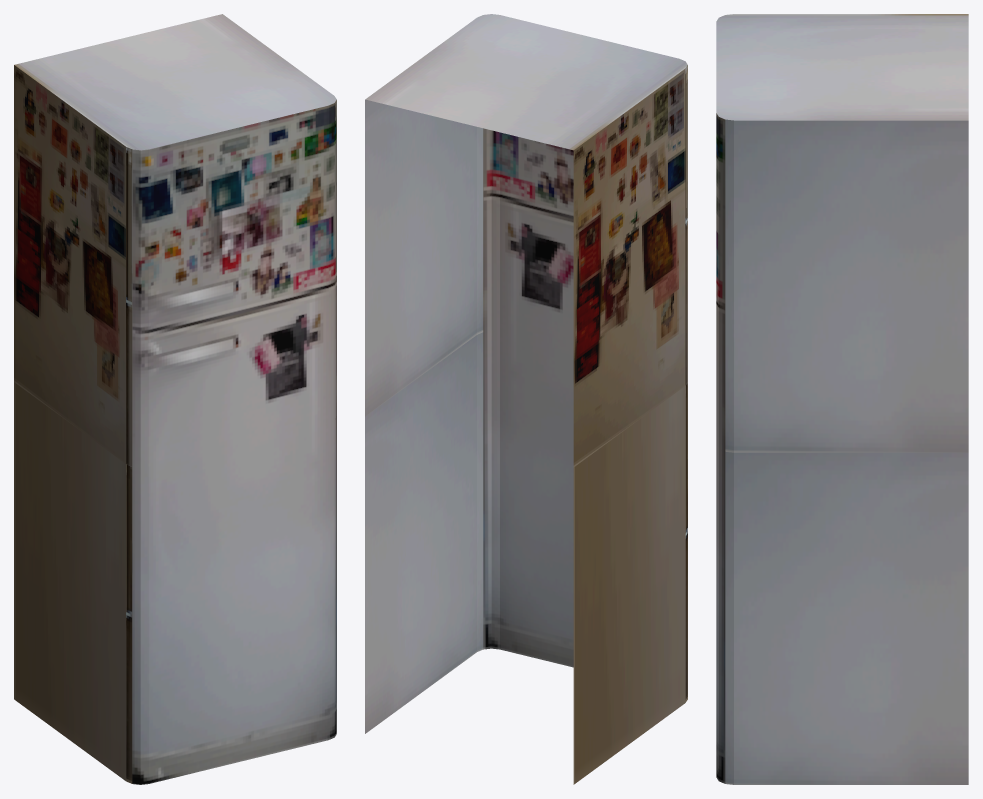
Rendered from Heladera.fbx.
The picture shows the model from 3 angles, left to right: view 1: azimuth 30°, elevation 25°; view 2: azimuth 150°, elevation 25°; view 3: azimuth 270°, elevation 25°; orthographic projection. The views are drawn at different scales.
Visible parts, largest first — view 1: Heladera; view 2: Heladera; view 3: Heladera.
Boxes of the visible parts, x1=… form: Heladera: x1=14, y1=14, x2=336, y2=784; Heladera: x1=365, y1=14, x2=687, y2=784; Heladera: x1=716, y1=14, x2=968, y2=784.
Bounding box in the file's own units: 55 × 160 × 55.
